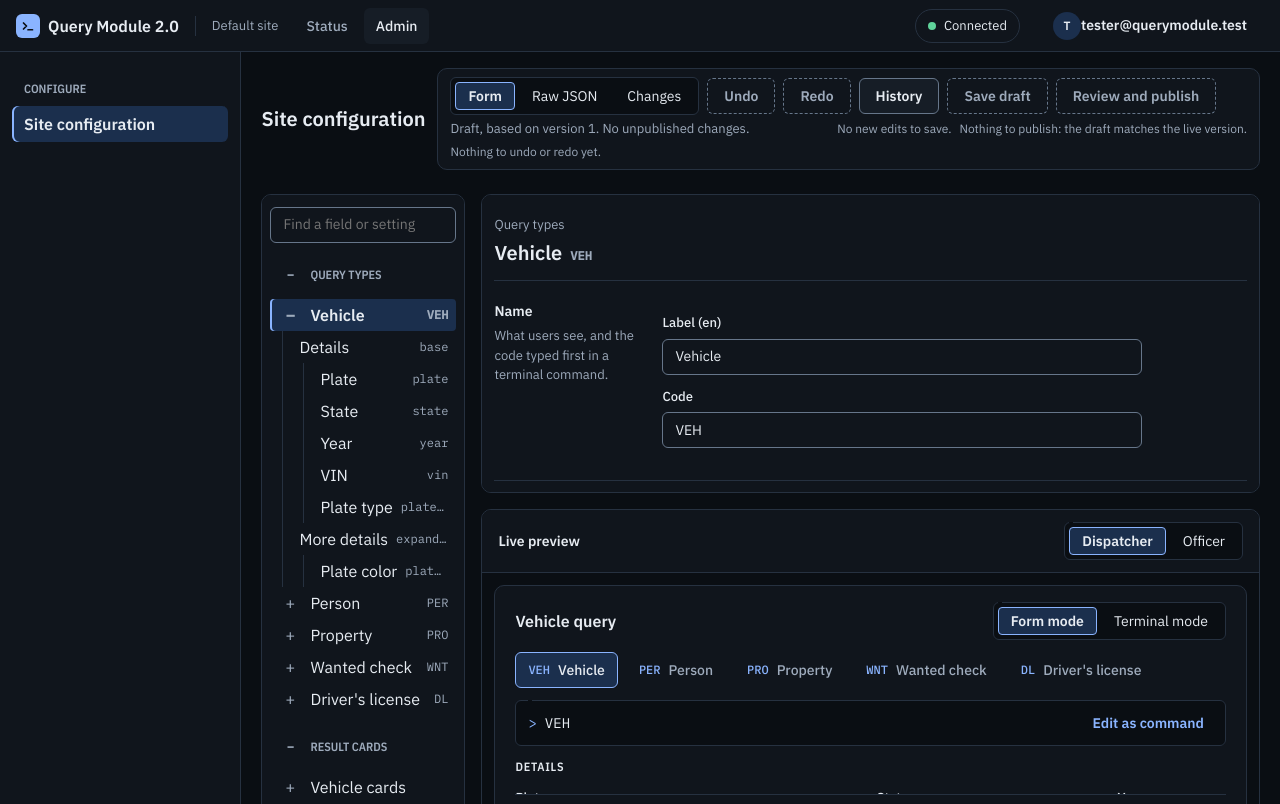
Test: A3 query type editor: ruled sections › input types read in plain words and still write the schema value
Check: the tab "Form" is shown, box x1=456 y1=82 x2=515 y2=110
Click the list item "Person PER" at (335,602), box x1=270 y1=586 x2=456 y2=618
(page scrolled)
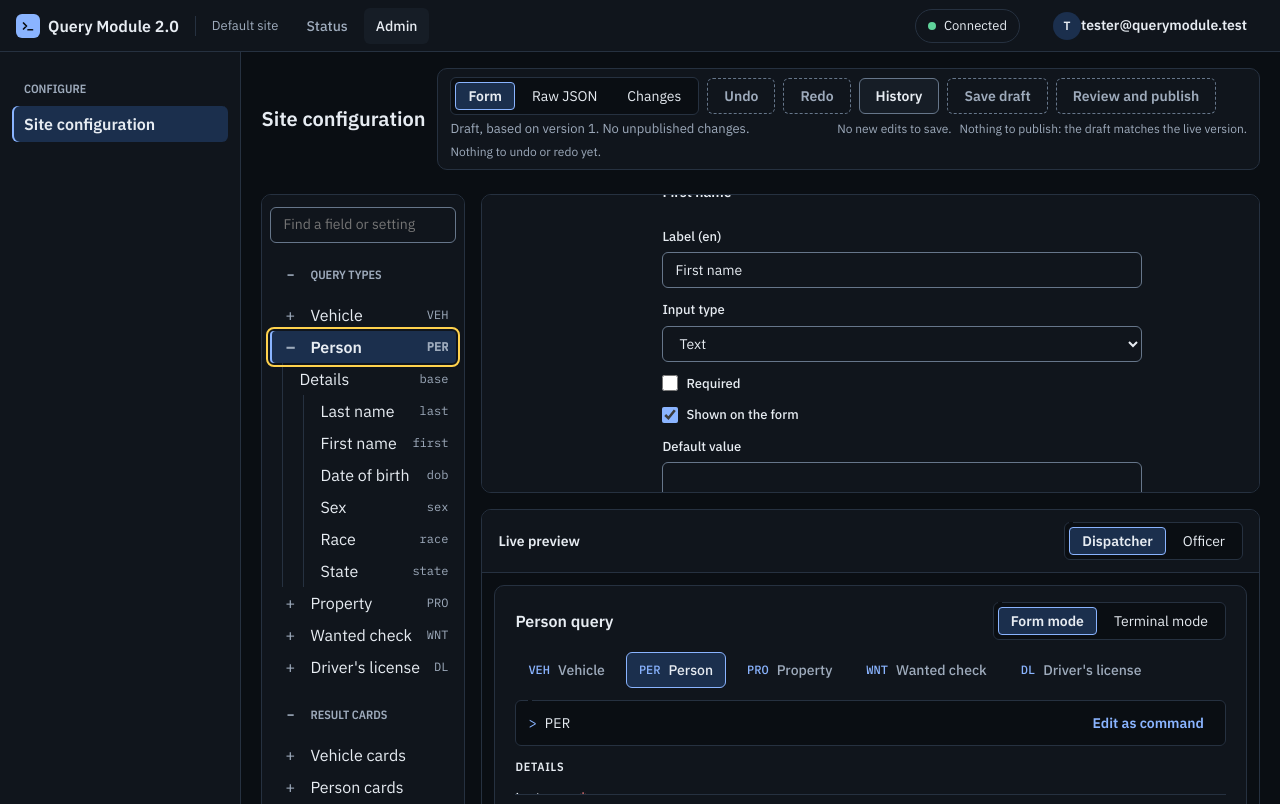
Select "List" in the dropdown labelled "Input type" at (902,344), box x1=662 y1=326 x2=1142 y2=362
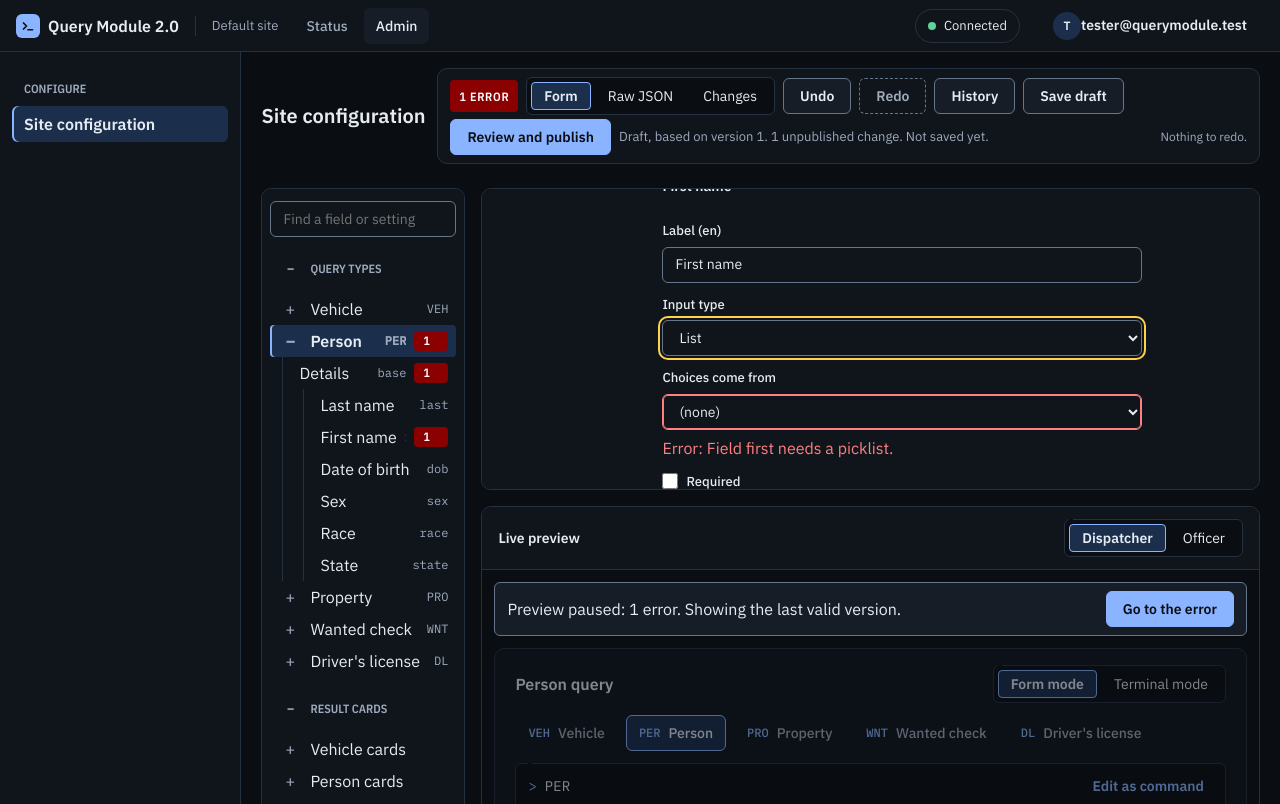
Check: the dropdown labelled "Choices come from" is shown, box x1=662 y1=394 x2=1142 y2=430
